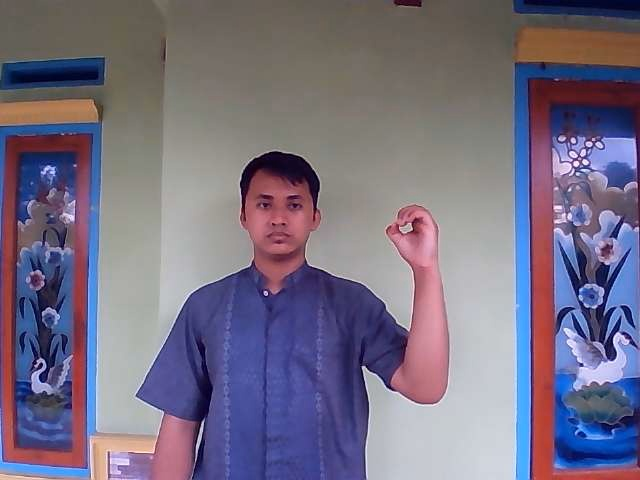O: (385, 201, 439, 266)
